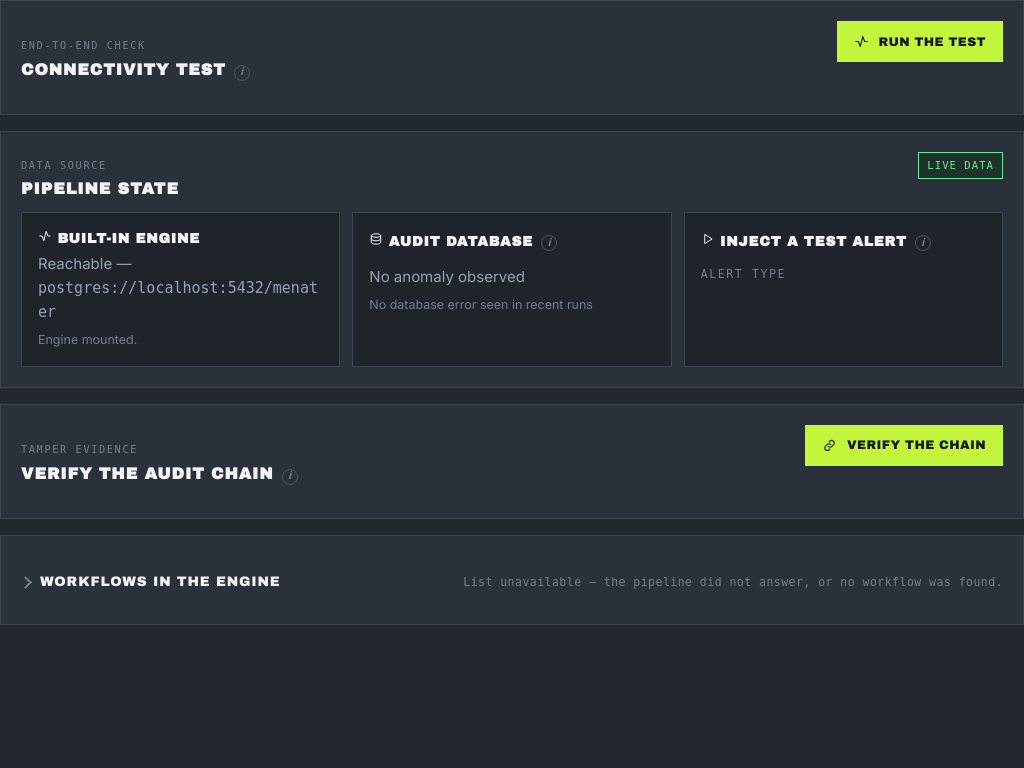
Test: what the screen owes the person who pressed › reports a client-side refusal in the same slot, not a second one
Step 1. Click the button "Verify the chain" → (904, 446), box top-left (805, 425), bottom-right (1003, 466)
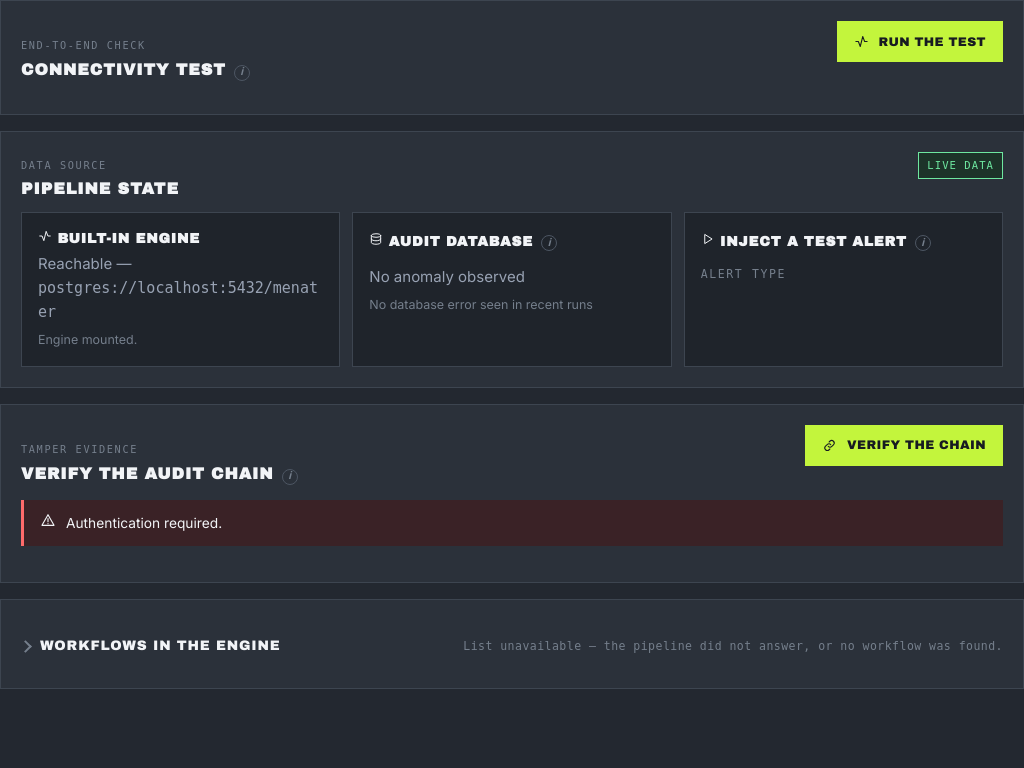
Expected: the text "Authentication required." is shown, top-left (21, 500), bottom-right (1003, 546)
